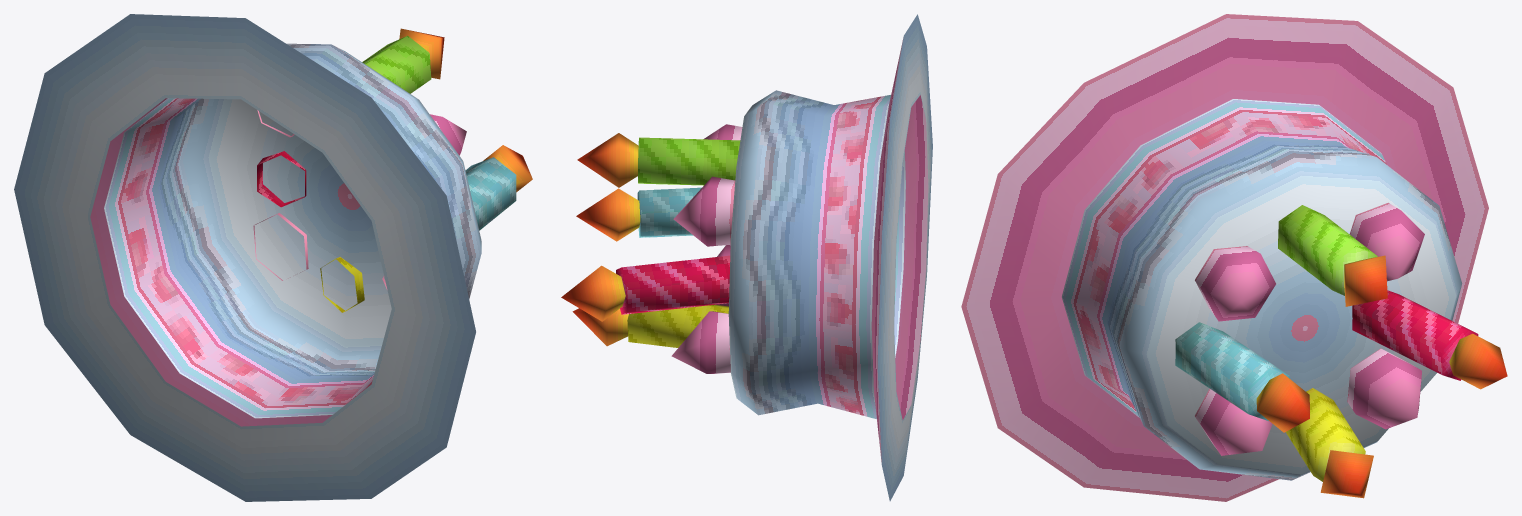
File: cap_birthday.dae
3 views of the same model, side by side, from view 1: azimuth 30°, elevation 25°; view 2: azimuth 150°, elevation 25°; view 3: azimuth 270°, elevation 25° (orthographic). The views are drawn at different scales.
Visible parts, largest first — view 1: cap_birthday; view 2: cap_birthday; view 3: cap_birthday.
Boxes of the visible parts, left/top/right/bottom form: cap_birthday: left=14, top=14, right=532, bottom=501; cap_birthday: left=561, top=14, right=932, bottom=501; cap_birthday: left=961, top=14, right=1507, bottom=501.
Size of the model in its own units: 28.41 by 31.26 by 31.72.
2 materials, 2 textured.
